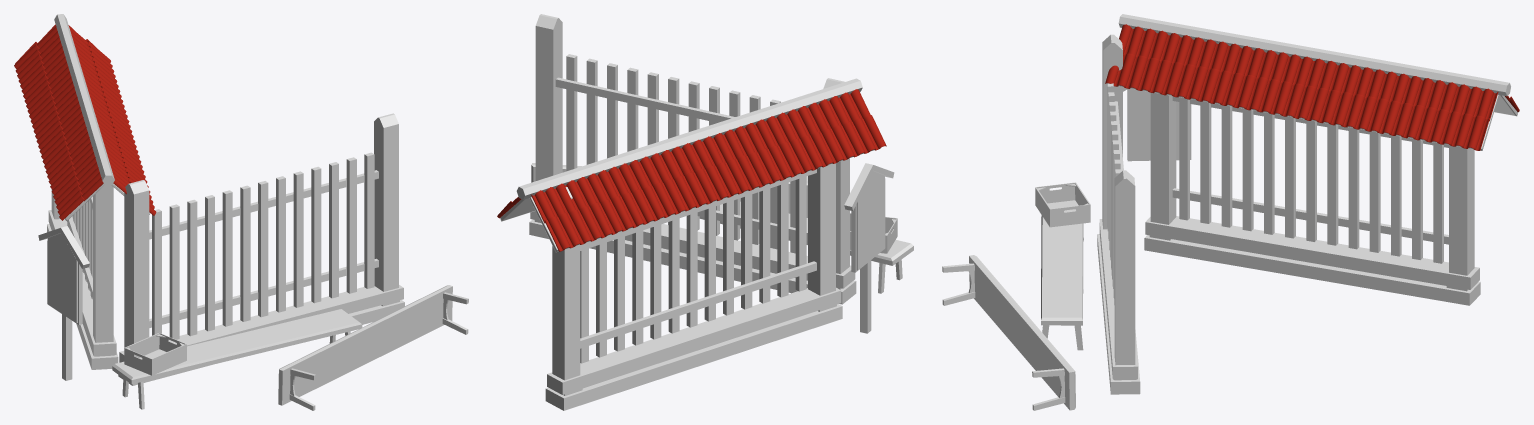
File: Big Areal Mittig.fbx
3 renders of one model, left to right at view 1: azimuth 30°, elevation 25°; view 2: azimuth 150°, elevation 25°; view 3: azimuth 270°, elevation 25°, orthographic. The views are drawn at different scales.
Visible parts, largest first — view 1: Cube.1134, Roof.006, Cube.1139, Cube.1143, Cube.1140, Cube.1132, Cube.1137, Cylinder.289, Cube.1149, Cube.1146, Cube.1130, Cube.1135 (+7 smaller); view 2: Roof.006, Cube.1127, Cube.1134, Cube.1132, Cube.1130, Cube.1139, Cube.1131, Cylinder.289, Cube.1129, Cube.1149, Cube.1137, Cube.1138 (+9 smaller); view 3: Roof.006, Cube.1127, Cube.1130, Cube.1132, Cube.1139, Cube.1131, Cylinder.289, Cube.1143, Cube.1140, Cube.1148, Cube.1146, Cube.1134 (+6 smaller).
Boxes of the visible parts, <box> form: Cube.1134: <box>152,152,374,339</box>; Roof.006: <box>14,24,156,220</box>; Cube.1139: <box>124,113,398,347</box>; Cube.1143: <box>278,285,452,405</box>; Cube.1140: <box>112,309,362,384</box>; Cube.1132: <box>51,185,113,342</box>; Cube.1137: <box>119,285,403,362</box>; Cylinder.289: <box>54,14,114,185</box>; Cube.1149: <box>47,235,77,322</box>; Cube.1146: <box>124,333,186,375</box>; Cube.1130: <box>48,210,116,356</box>; Cube.1135: <box>149,170,378,239</box>; Roof.006: <box>497,89,886,251</box>; Cube.1127: <box>580,176,806,363</box>; Cube.1134: <box>566,54,795,253</box>; Cube.1132: <box>552,163,835,380</box>; Cube.1130: <box>547,287,841,394</box>; Cube.1139: <box>535,14,849,273</box>; Cube.1131: <box>545,304,842,410</box>; Cylinder.289: <box>516,78,862,199</box>; Cube.1129: <box>580,261,816,348</box>; Cube.1149: <box>856,173,885,270</box>; Cube.1137: <box>530,211,855,288</box>; Cube.1138: <box>529,219,856,304</box>; Roof.006: <box>1105,24,1519,150</box>; Cube.1127: <box>1179,97,1443,263</box>; Cube.1130: <box>1145,216,1479,289</box>; Cube.1132: <box>1150,93,1474,275</box>; Cube.1139: <box>1102,34,1135,365</box>; Cube.1131: <box>1144,235,1480,305</box>; Cylinder.289: <box>1118,14,1510,96</box>; Cube.1143: <box>969,255,1075,410</box>; Cube.1140: <box>1041,215,1083,325</box>; Cube.1148: <box>1127,88,1191,161</box>; Cube.1146: <box>1035,182,1090,227</box>; Cube.1134: <box>1107,83,1121,304</box>.
Size of the model in its own units: 759 by 427 by 975.
